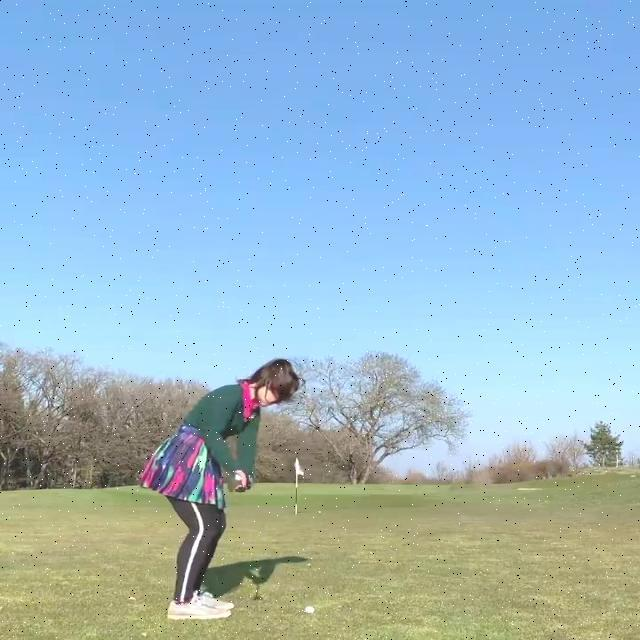golf ball: (305, 606, 316, 617)
golf club-handle: (181, 422, 250, 492)
golf club-head: (181, 423, 203, 439)
